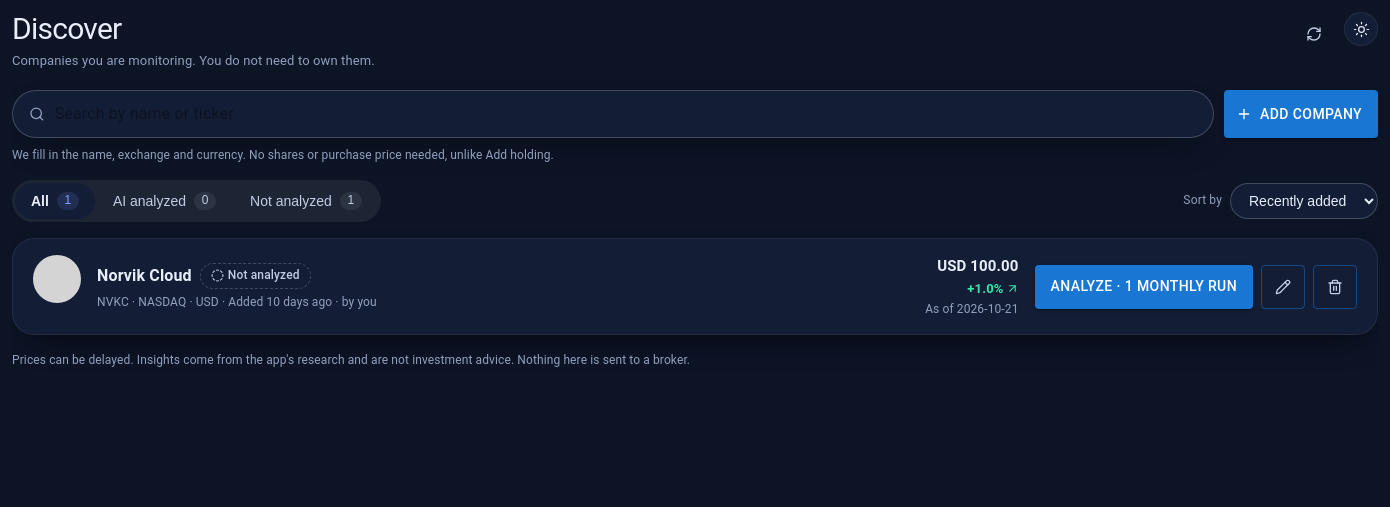
Test: DiscoverPage › explains an empty filter and offers to show all
Expected: the link "Norvik Cloud" is shown, [97,264,192,287]
What coordinates should you click on to do the following:
click the button "AI analyzed 0"
I would click on:
 (164, 201)
Its box is [97,183,232,219].
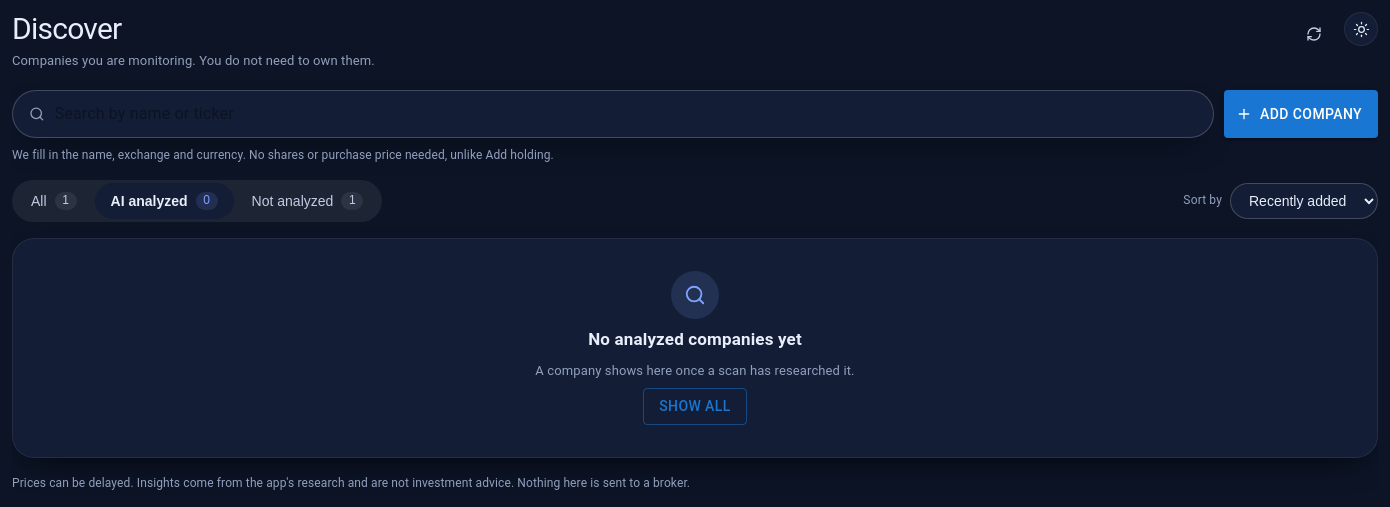
Now the heading "No analyzed companies yet" is shown, box [588,327,802,352]
What coordinates should you click on to do the following:
click the button "Show all"
I would click on:
 (695, 406)
Its box is [643,388,747,424].
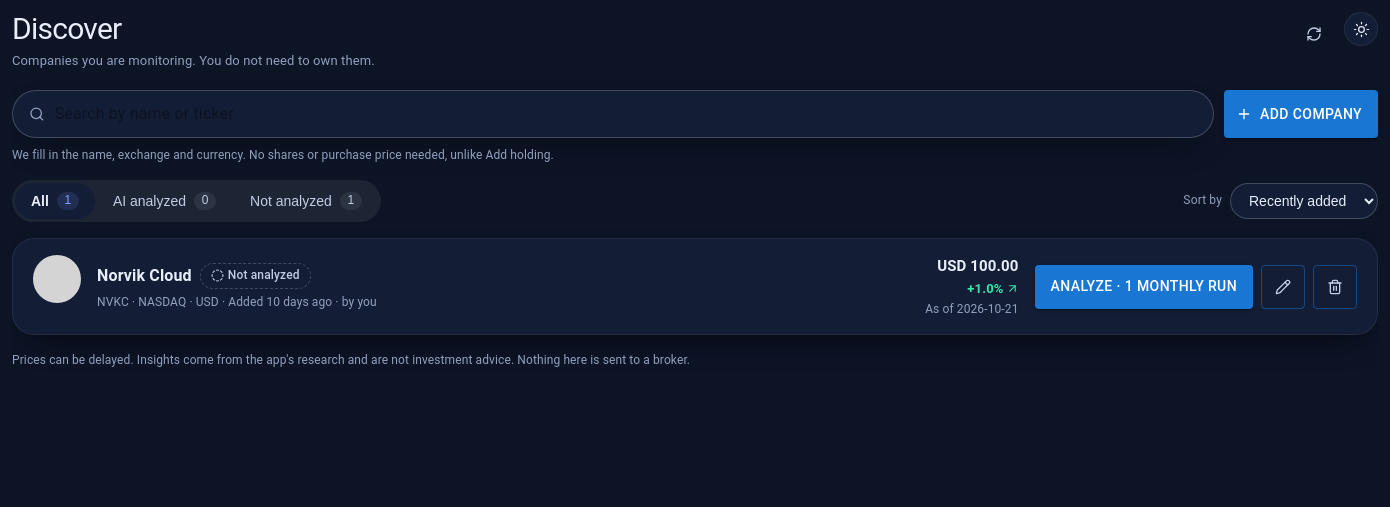
Now the link "Norvik Cloud" is shown, box [97,264,192,287]
